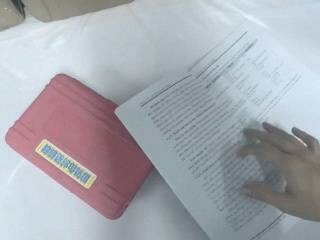box: (5, 69, 161, 222)
